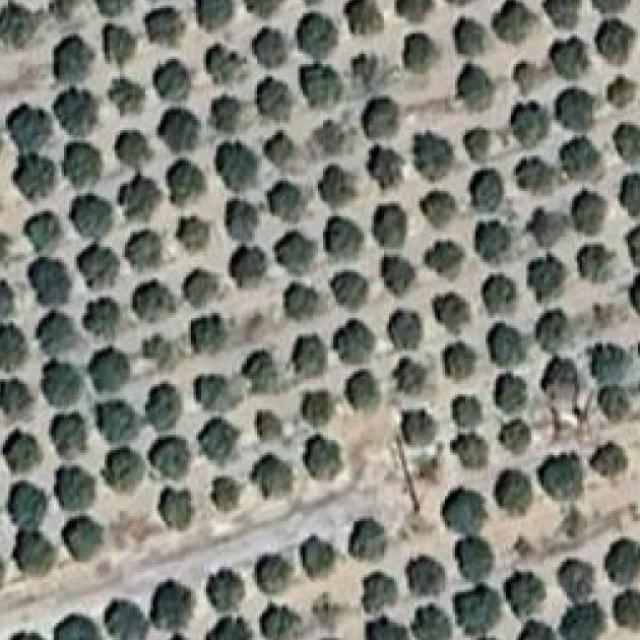Tree: (408, 125, 460, 181), (453, 580, 501, 640), (450, 62, 503, 114), (64, 511, 113, 567), (69, 194, 117, 251), (448, 531, 499, 583), (486, 313, 536, 366), (13, 154, 68, 202), (138, 1, 191, 50), (102, 594, 158, 640), (59, 138, 104, 195), (120, 224, 171, 274), (504, 567, 553, 619), (592, 338, 640, 391), (169, 204, 216, 258), (138, 582, 188, 632), (499, 0, 546, 53), (29, 311, 75, 364), (105, 445, 149, 500), (569, 181, 610, 239), (549, 546, 591, 602), (11, 528, 64, 572), (580, 240, 626, 290), (443, 489, 493, 535), (544, 450, 585, 506), (52, 84, 98, 133), (346, 565, 396, 610), (143, 382, 189, 430), (214, 138, 259, 187), (26, 262, 76, 306), (493, 468, 537, 518), (542, 364, 588, 411), (204, 572, 251, 618), (154, 108, 202, 153), (394, 409, 442, 454), (1, 102, 53, 143), (564, 135, 605, 187), (298, 57, 343, 104), (470, 216, 515, 263), (100, 18, 143, 67), (552, 87, 597, 133), (589, 389, 633, 436), (351, 516, 394, 564), (0, 0, 41, 50), (272, 230, 317, 275), (113, 125, 157, 171), (481, 267, 519, 320), (49, 414, 89, 464), (592, 438, 632, 488), (462, 163, 507, 207), (504, 103, 549, 147), (117, 176, 159, 223), (455, 11, 497, 58), (435, 290, 474, 340), (333, 320, 377, 364), (147, 438, 191, 482), (257, 554, 302, 597), (531, 308, 570, 357), (97, 400, 141, 443), (249, 452, 291, 497), (260, 599, 306, 640), (217, 202, 264, 242), (242, 341, 282, 388), (567, 600, 614, 640), (81, 252, 123, 296), (303, 435, 345, 479), (186, 315, 228, 359), (607, 540, 640, 596), (376, 252, 417, 297), (599, 18, 640, 63), (513, 150, 554, 195), (376, 201, 416, 247), (486, 369, 526, 415), (86, 293, 126, 339), (264, 178, 306, 221), (206, 41, 247, 85), (206, 93, 247, 137), (85, 349, 126, 393), (20, 209, 60, 254), (41, 369, 79, 416), (152, 56, 194, 98), (279, 279, 321, 321), (0, 481, 42, 523), (389, 359, 430, 402), (194, 369, 234, 413), (54, 37, 93, 82), (425, 189, 464, 234), (528, 204, 567, 249), (178, 267, 217, 312), (130, 279, 175, 318), (3, 374, 38, 424), (359, 100, 402, 140), (293, 328, 333, 371), (430, 242, 469, 286), (457, 120, 496, 164), (155, 486, 194, 530), (366, 145, 404, 190), (438, 341, 474, 388), (163, 158, 203, 200), (209, 472, 247, 516), (555, 39, 592, 84), (0, 430, 45, 467), (386, 313, 426, 354), (396, 31, 438, 70), (406, 602, 449, 640), (404, 562, 447, 600), (526, 254, 563, 297), (59, 467, 96, 510), (227, 247, 267, 286), (196, 420, 236, 459), (450, 430, 489, 470), (108, 74, 145, 116), (318, 166, 355, 208), (260, 76, 296, 118), (612, 165, 640, 219), (301, 533, 337, 575), (252, 28, 290, 67), (293, 13, 332, 51), (140, 333, 180, 370), (499, 417, 534, 459), (607, 74, 640, 118), (514, 56, 548, 98), (252, 407, 283, 453), (262, 133, 302, 168), (336, 272, 372, 310), (190, 0, 234, 31), (45, 609, 89, 640), (323, 213, 357, 253), (614, 117, 640, 168), (303, 389, 337, 426), (348, 374, 381, 412), (450, 394, 484, 430), (341, 0, 386, 27), (241, 0, 285, 27), (313, 120, 346, 155), (614, 582, 640, 626), (543, 0, 585, 27), (0, 323, 27, 365), (514, 617, 561, 640), (206, 617, 252, 640), (358, 615, 399, 640), (399, 0, 437, 22), (625, 216, 640, 262), (348, 54, 374, 80), (46, 0, 80, 18), (0, 274, 13, 320), (590, 0, 623, 16), (95, 0, 135, 13), (631, 326, 640, 362), (633, 272, 640, 318), (11, 631, 44, 640)
